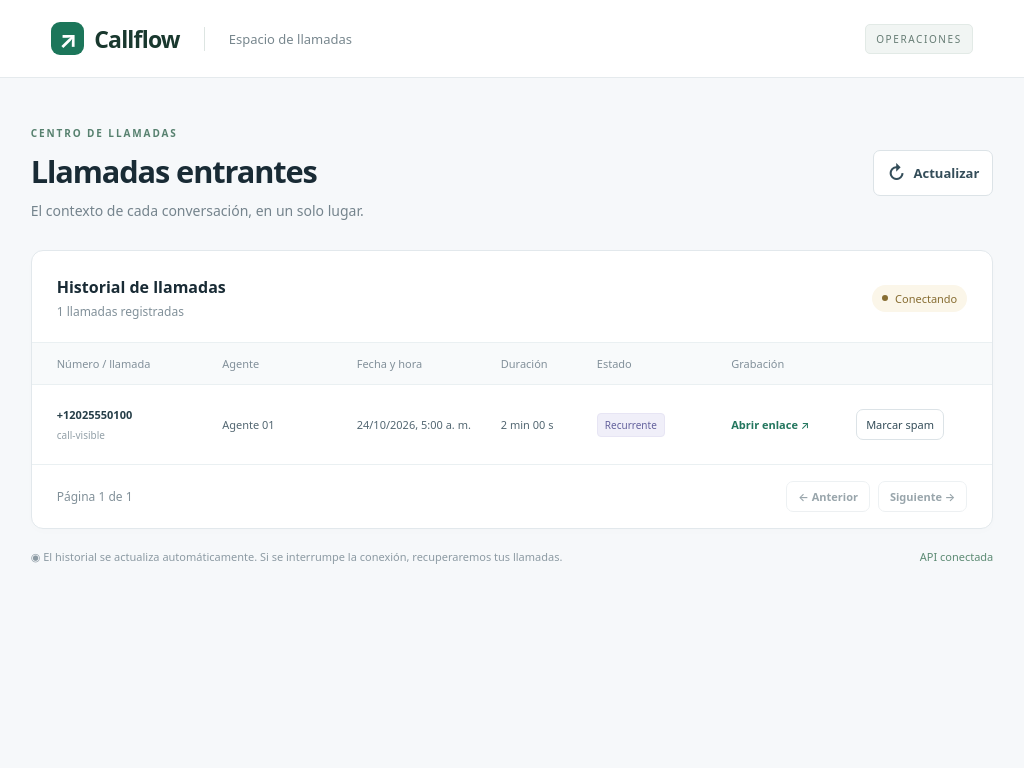
Test: historial de llamadas › no marca spam cuando PATCH falla y permite volver a intentar
Click the button "Marcar spam": click(900, 424) top-left (856, 409), bottom-right (944, 440)
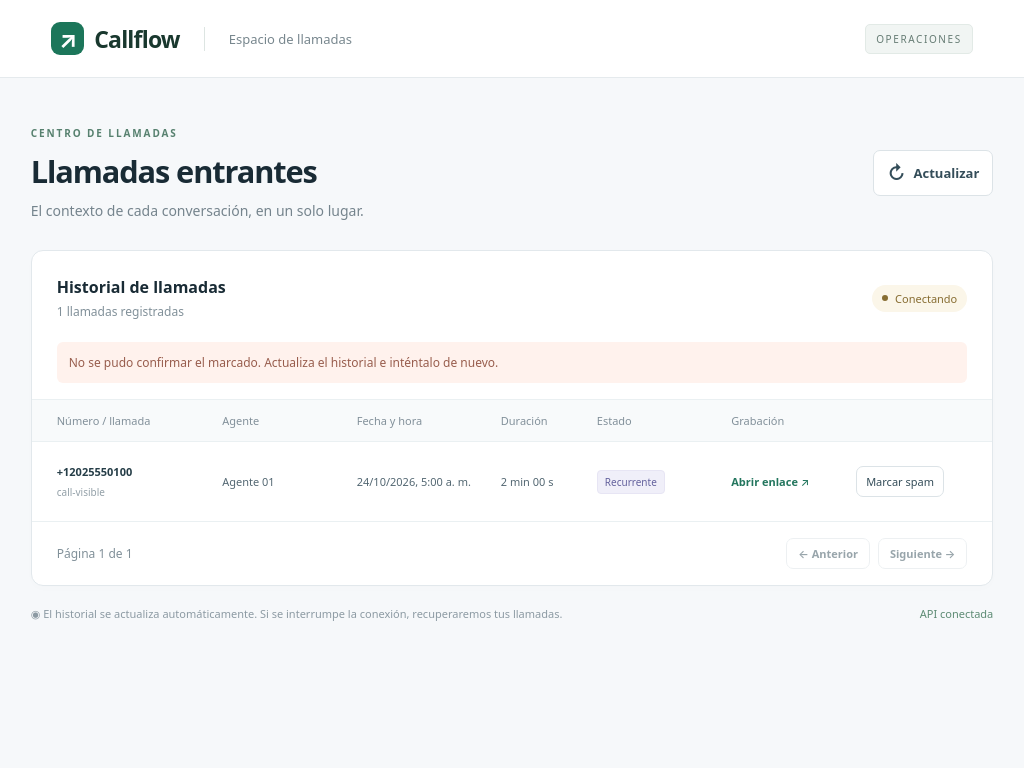
Expected: the button "Marcar spam" is enabled, top-left (856, 466), bottom-right (944, 497)
Now the message "No se pudo confirmar el marcado. Actualiza el historial e inténtalo de nuevo." is shown, box top-left (57, 342), bottom-right (967, 383)
